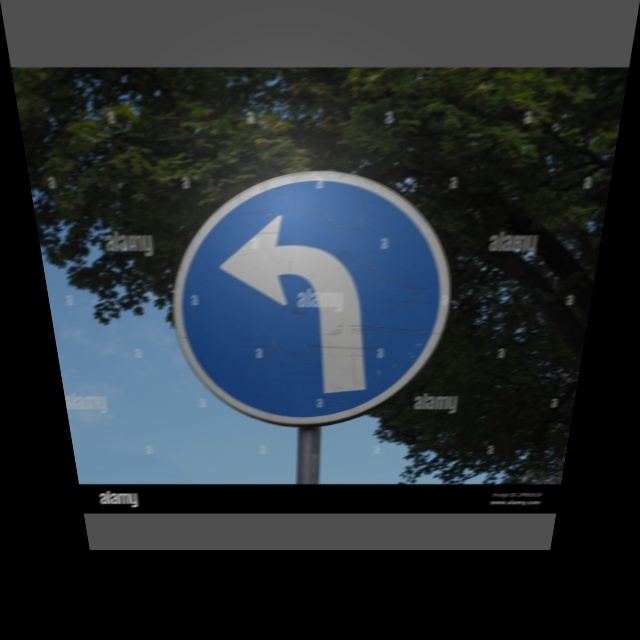Compulsory_Turn_Left_Ahead: (162, 171, 455, 429)
